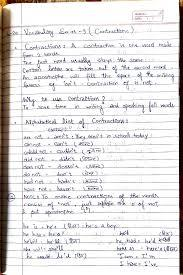text: (20, 100, 176, 116), (22, 79, 153, 92), (22, 72, 176, 83), (23, 40, 173, 51), (5, 25, 134, 37), (23, 192, 160, 203), (22, 200, 159, 211), (21, 64, 168, 74), (22, 56, 144, 68), (24, 116, 129, 129), (22, 131, 150, 140), (20, 94, 106, 107), (21, 206, 94, 218), (21, 222, 118, 231), (22, 146, 106, 156), (22, 154, 100, 163), (22, 162, 105, 170), (23, 177, 104, 185), (21, 170, 99, 178), (23, 140, 94, 148), (22, 185, 103, 192), (25, 252, 88, 260), (22, 237, 82, 245), (114, 236, 171, 244), (116, 245, 180, 252), (21, 50, 58, 60), (21, 230, 65, 238), (22, 244, 64, 252), (116, 252, 156, 260), (119, 260, 159, 268), (46, 126, 73, 134), (158, 230, 174, 237), (118, 229, 130, 238), (7, 193, 17, 202)
